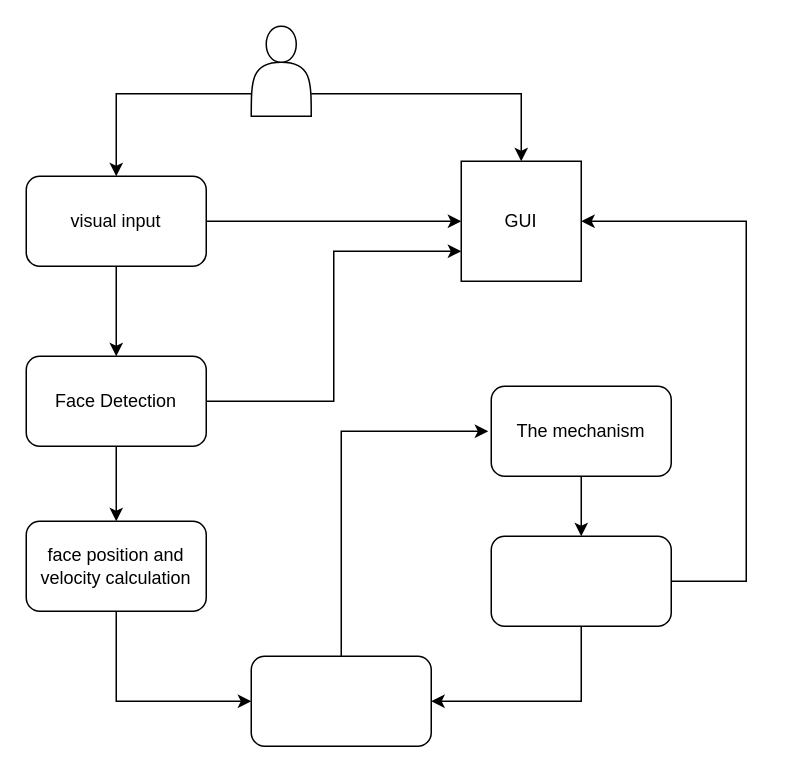
This 785x773 diagram has some shape labels left out. The centre of each missing label's shape, as x and y in pixels:
"controller" belongs at point (340, 700).
"motion sensors" belongs at point (580, 580).
